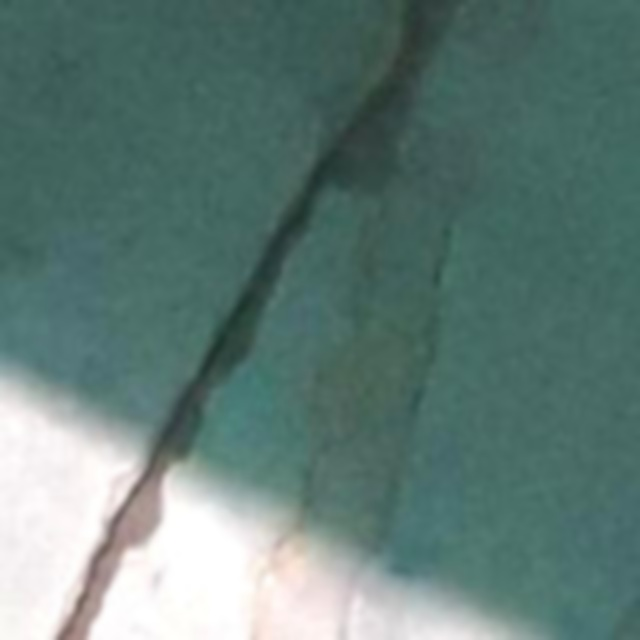SurfaceCrack: (42, 0, 462, 640)
